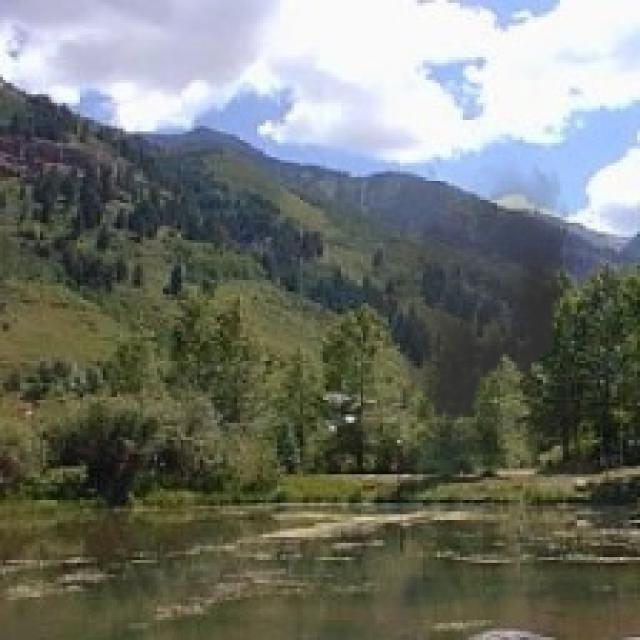Smoke: (360, 152, 574, 432)
